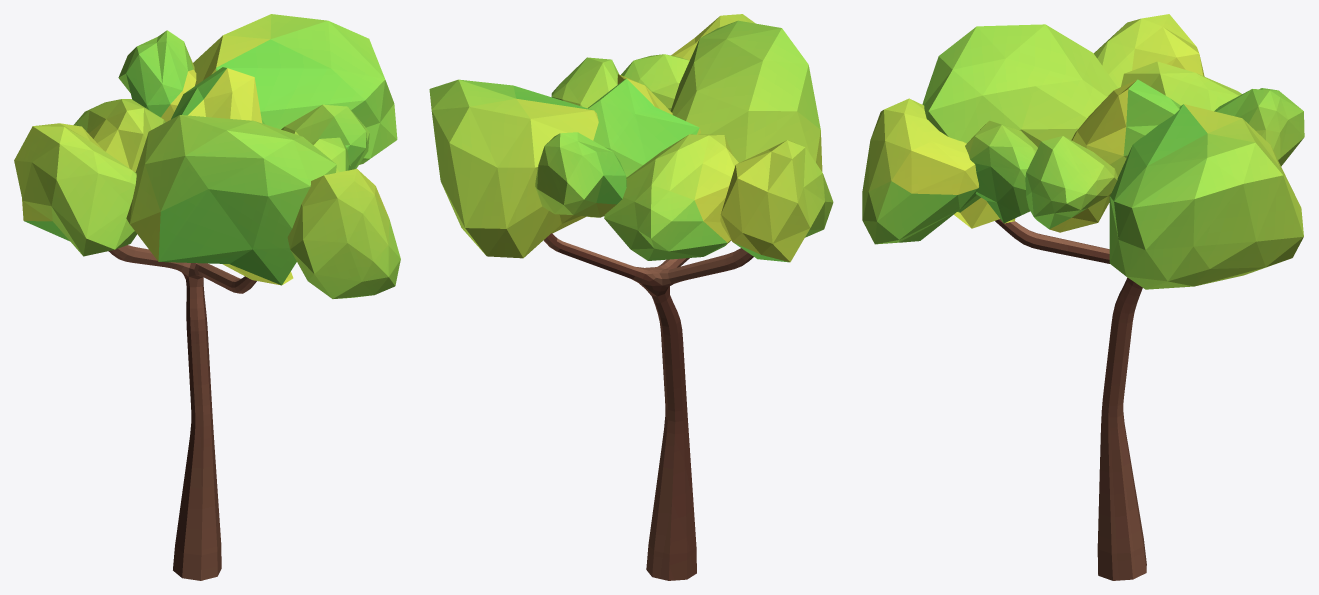
Rendered from Tree0.fbx.
3 renders of one model, left to right at view 1: azimuth 30°, elevation 25°; view 2: azimuth 150°, elevation 25°; view 3: azimuth 270°, elevation 25°, orthographic. The views are drawn at different scales.
Visible parts, largest first — view 1: Tree_LOD0; view 2: Tree_LOD0; view 3: Tree_LOD0.
Part boxes in pixels (x1=…): Tree_LOD0: x1=14, y1=14, x2=400, y2=580; Tree_LOD0: x1=429, y1=14, x2=833, y2=580; Tree_LOD0: x1=862, y1=14, x2=1304, y2=580.
Size of what is drawn, in the model's own units: 1112 by 1460 by 1115.
